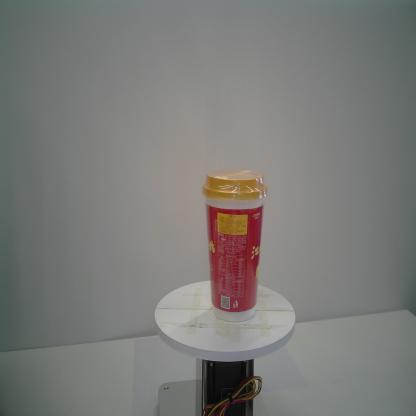Instant Drink: (202, 168, 268, 323)
